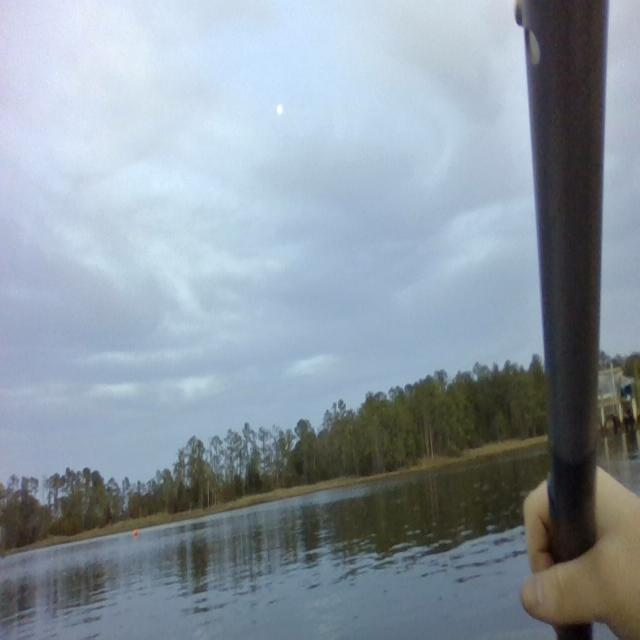Buoy: (132, 524, 140, 538)
